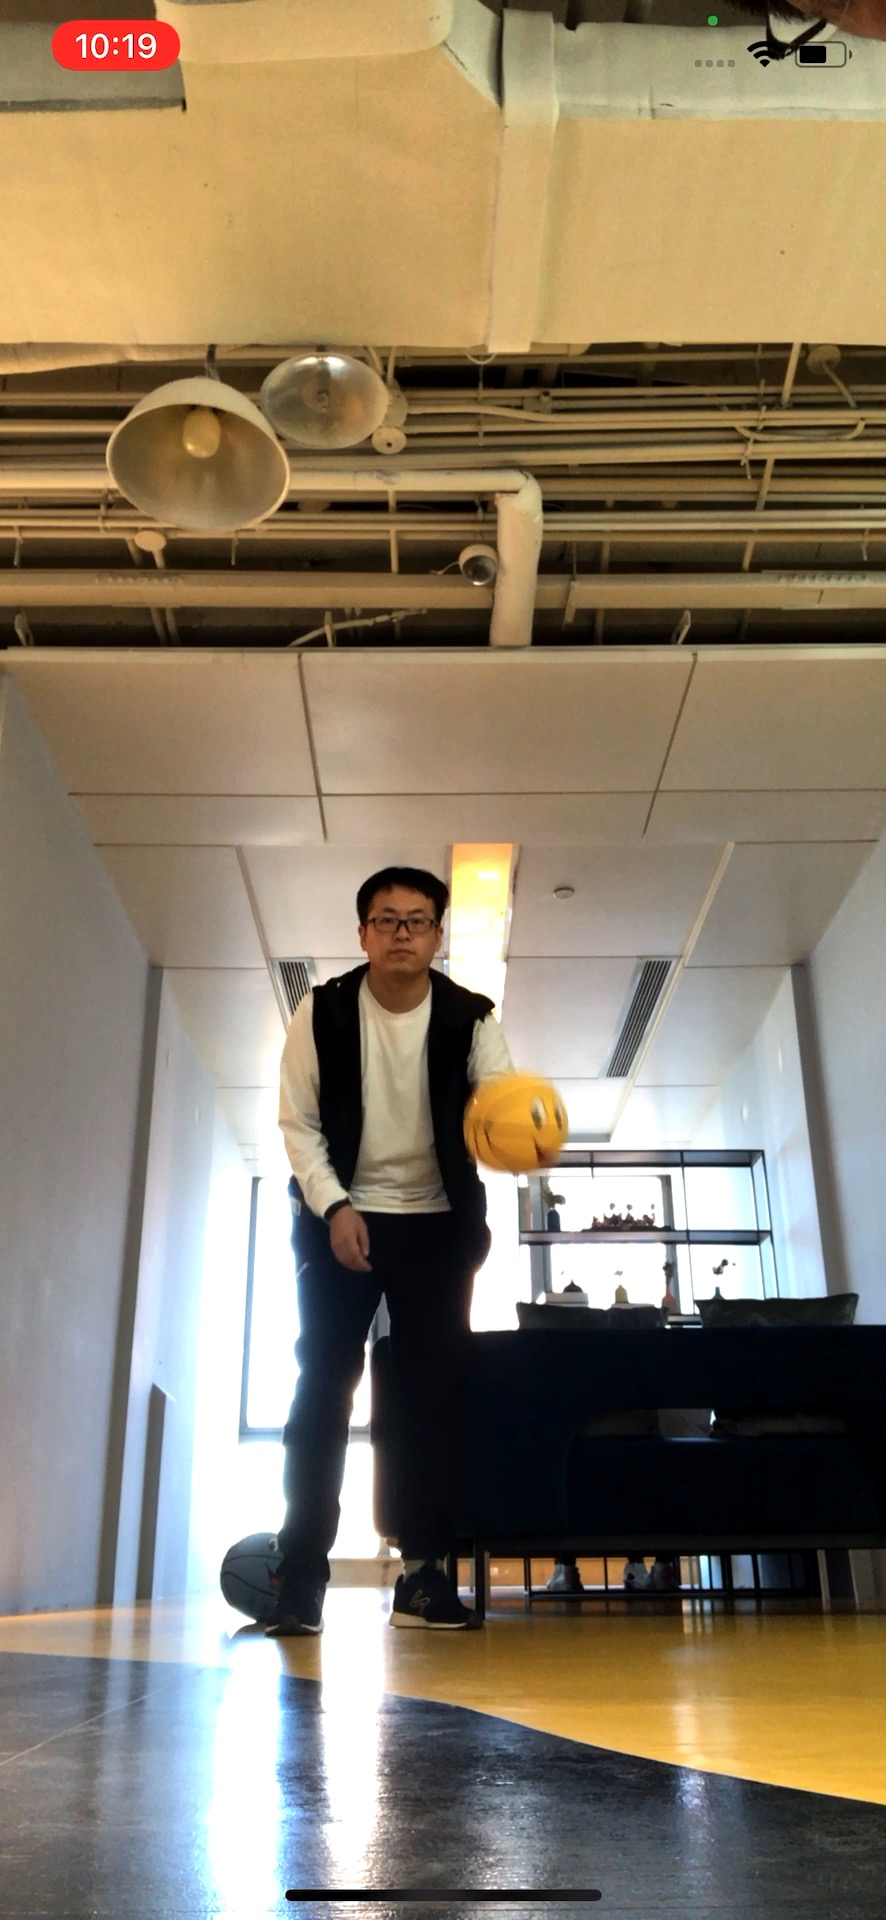ball: (459, 1068, 570, 1178), (218, 1531, 281, 1625)
